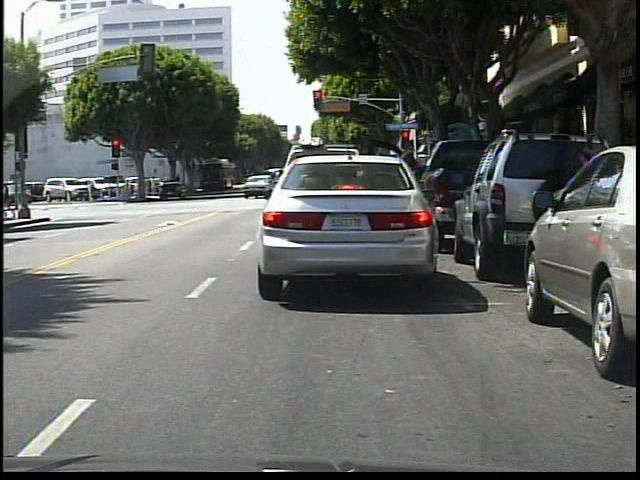person: (400, 146, 430, 238), (0, 184, 16, 218)
